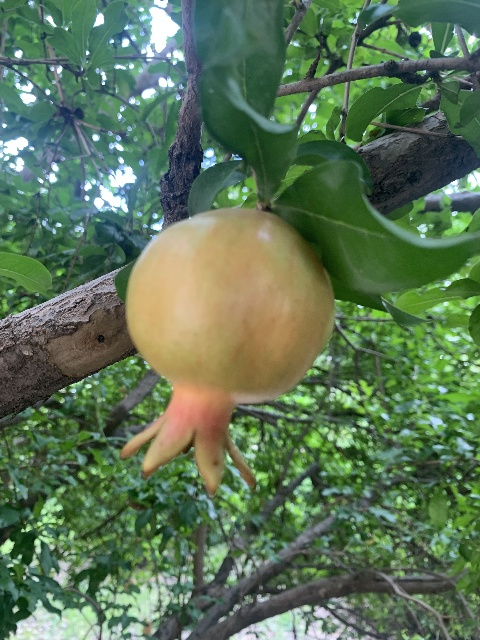mid-growth: (118, 208, 335, 498)
